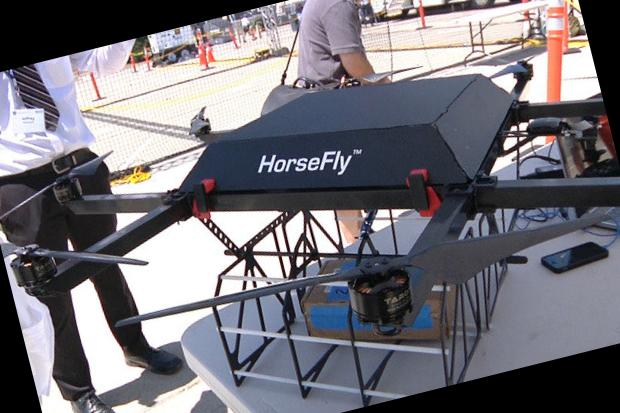drone: (0, 0, 620, 410)
